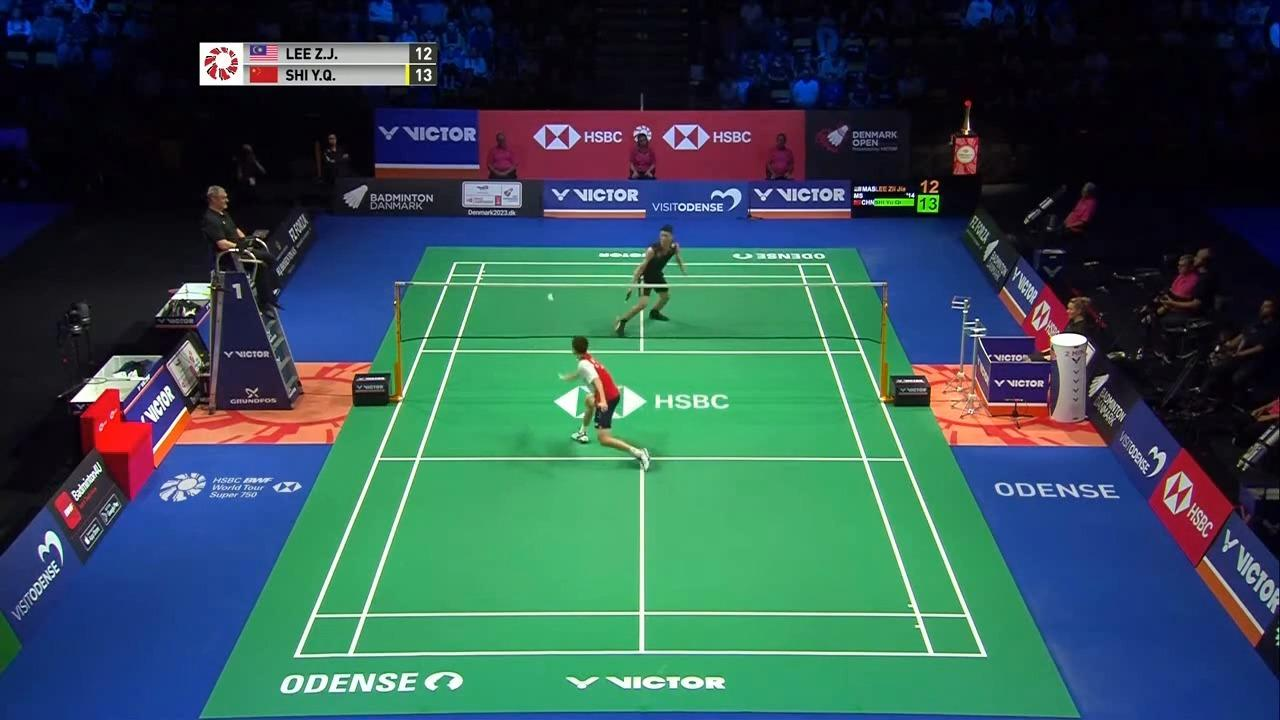shuttle: (545, 292, 559, 305)
